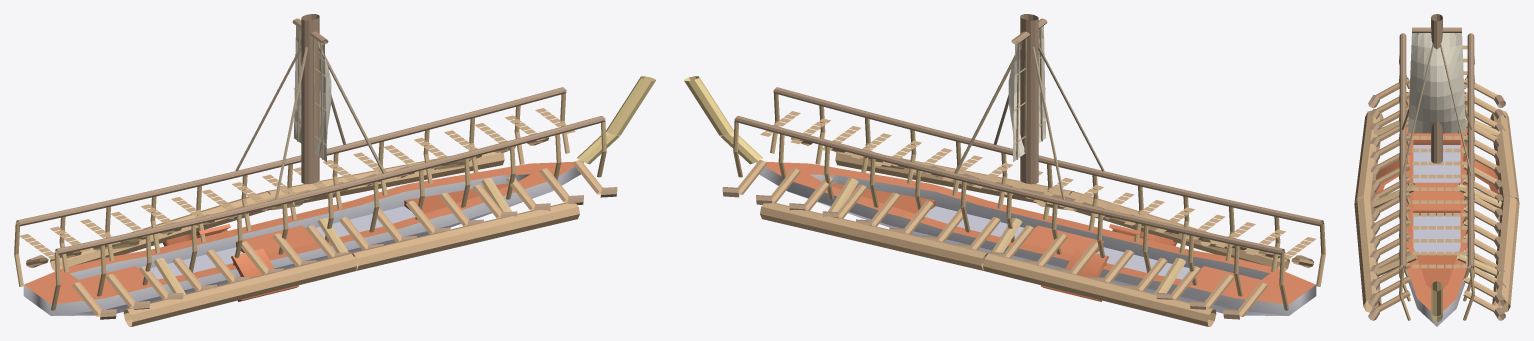
File: coracora-custom.glb
3 views of the same model, side by side, from view 1: azimuth 30°, elevation 25°; view 2: azimuth 150°, elevation 25°; view 3: azimuth 270°, elevation 25° (orthographic). The views are drawn at different scales.
Visible parts, largest first — view 1: coracora-custom-geometry, boat-row-large, paddles; view 2: coracora-custom-geometry, boat-row-large, paddles; view 3: coracora-custom-geometry, boat-row-large, paddles.
Part boxes in pixels (box(x1,y1,x2,y2)): coracora-custom-geometry: box(14, 14, 655, 326); boat-row-large: box(23, 161, 583, 315); paddles: box(163, 224, 298, 301); coracora-custom-geometry: box(684, 14, 1325, 326); boat-row-large: box(756, 161, 1316, 315); paddles: box(1041, 224, 1176, 301); coracora-custom-geometry: box(1354, 14, 1519, 322); boat-row-large: box(1406, 91, 1467, 326); paddles: box(1374, 155, 1499, 194).
Bounding box in the file's own units: 37.75 × 13.59 × 10.
7 materials, 1 textured.
